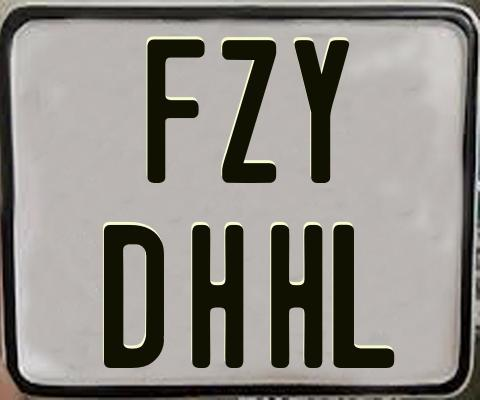D: (103, 225, 165, 372)
F: (147, 39, 205, 184)
H: (271, 225, 328, 372), (192, 225, 246, 370)
L: (331, 224, 392, 373)
Y: (294, 40, 351, 185)
Z: (222, 40, 280, 186)
